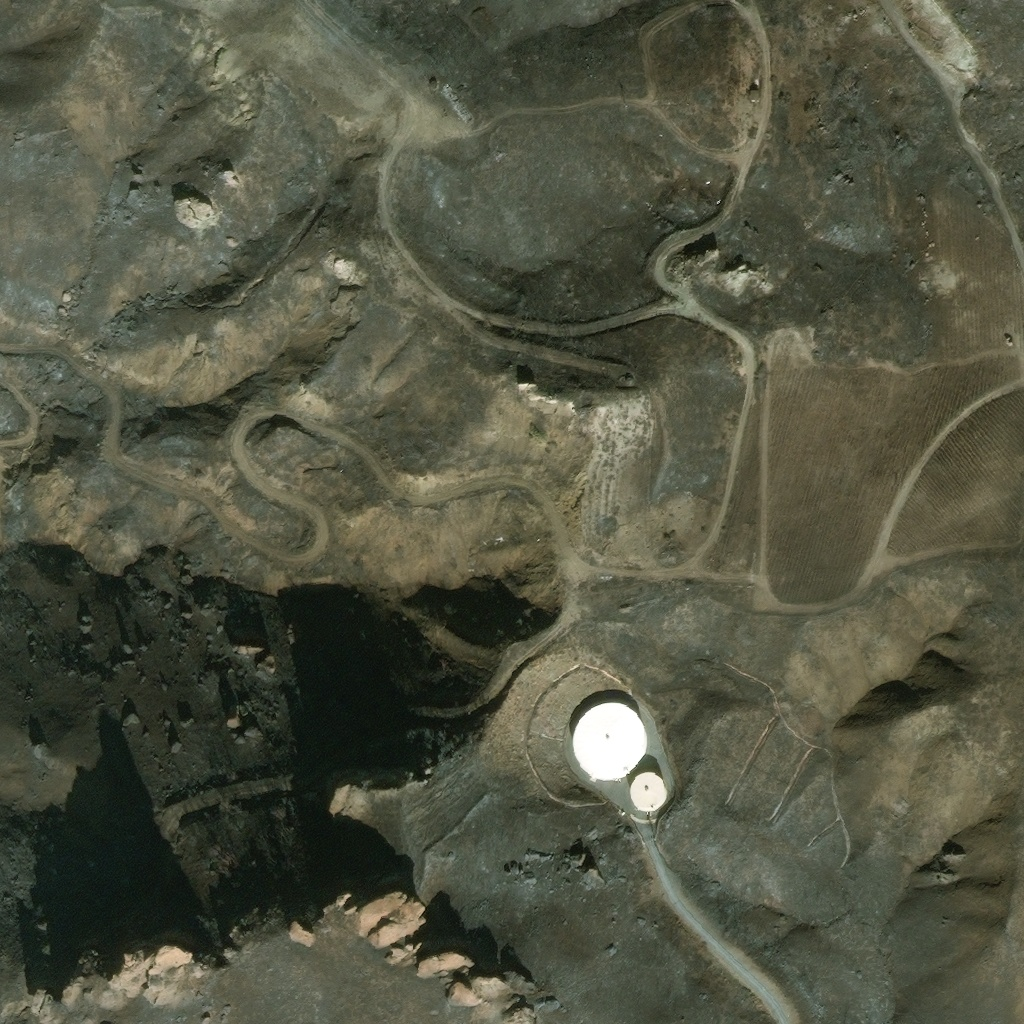0 no-damage: (573, 703, 649, 780), (629, 772, 667, 812)
3 destroyed: (471, 5, 498, 39), (456, 101, 472, 122), (444, 85, 461, 103), (429, 79, 439, 90), (626, 378, 635, 388), (750, 89, 759, 98)
